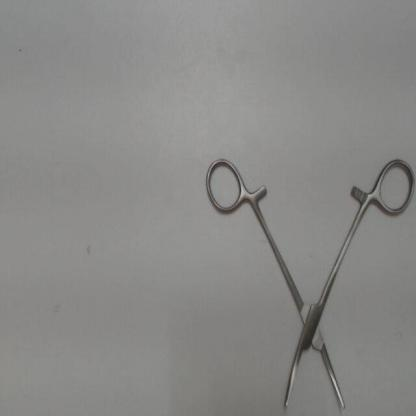Crile Artery Forceps: (197, 153, 415, 415)
